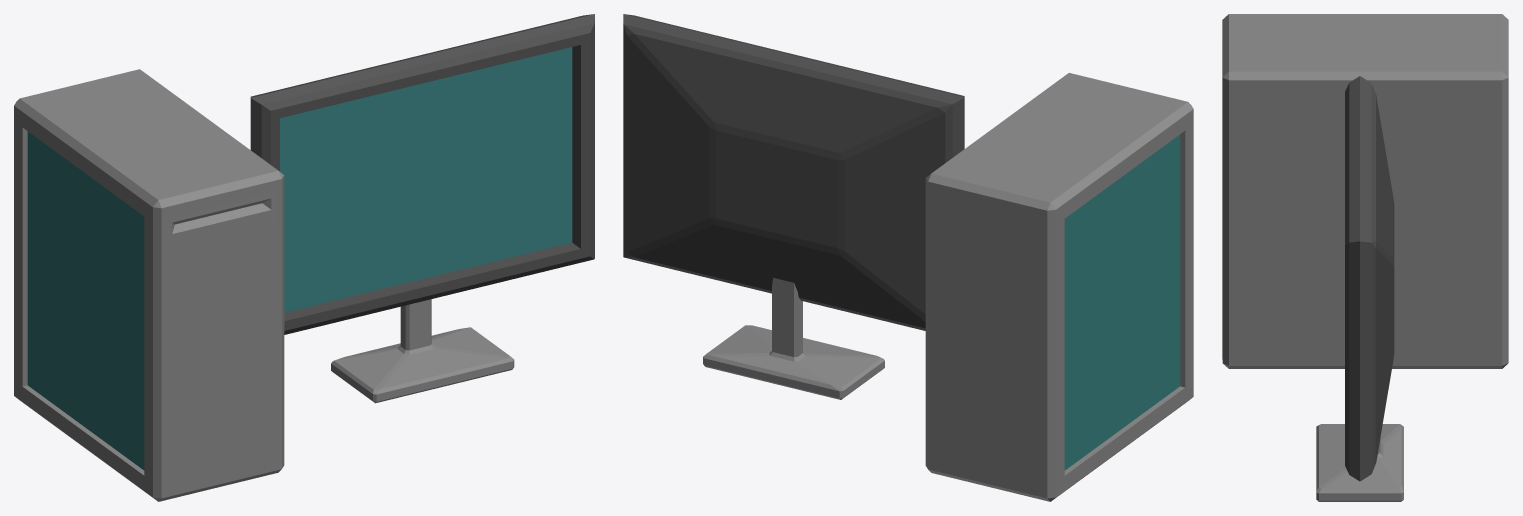
The picture shows the model from 3 angles, left to right: view 1: azimuth 30°, elevation 25°; view 2: azimuth 150°, elevation 25°; view 3: azimuth 270°, elevation 25°; orthographic projection.
Parts seen in each view (by area): view 1: PC, Monitor; view 2: PC, Monitor; view 3: PC, Monitor.
Part boxes in pixels (bbox=[...]): PC: bbox=[14, 69, 284, 501]; Monitor: bbox=[250, 14, 594, 403]; PC: bbox=[925, 73, 1193, 501]; Monitor: bbox=[623, 14, 964, 399]; PC: bbox=[1222, 14, 1508, 368]; Monitor: bbox=[1316, 76, 1403, 501].
Bounding box in the file's own units: 6.7 × 3.98 × 3.32.
